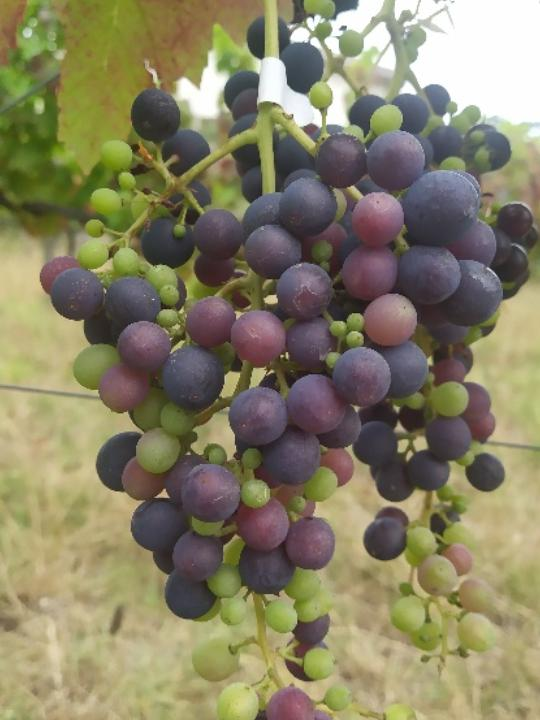grape: (41, 14, 504, 720)
